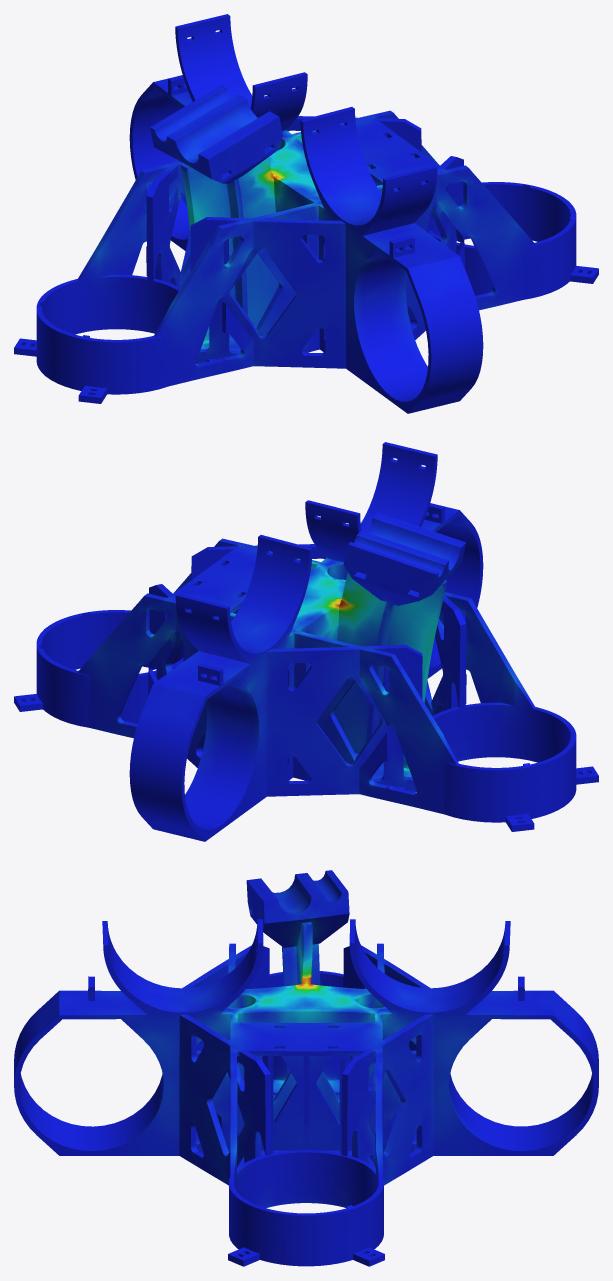
File: result.glb
3 renders of one model, top to bottom at view 1: azimuth 30°, elevation 25°; view 2: azimuth 150°, elevation 25°; view 3: azimuth 270°, elevation 25°, orthographic. The views are drawn at different scales.
Visible parts, largest first — view 1: 57e0a685-ddd5-5b07-8110-d83b3296390d von Mises; view 2: 57e0a685-ddd5-5b07-8110-d83b3296390d von Mises; view 3: 57e0a685-ddd5-5b07-8110-d83b3296390d von Mises.
Boxes of the visible parts, x1,y1,x2,y2 form: 57e0a685-ddd5-5b07-8110-d83b3296390d von Mises: (14,14,598,413); 57e0a685-ddd5-5b07-8110-d83b3296390d von Mises: (14,442,598,841); 57e0a685-ddd5-5b07-8110-d83b3296390d von Mises: (14,870,598,1266).
Size of the model in its own units: 0.2603 by 0.1118 by 0.2614.
Materials: 1 (1 with a texture image).
